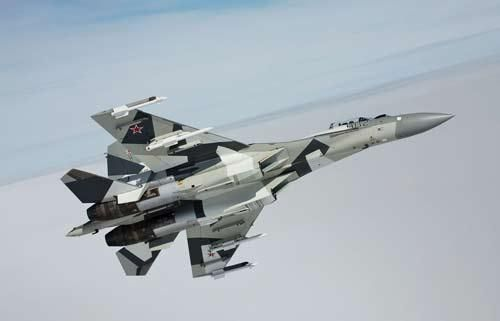airplane: (56, 94, 455, 281)
